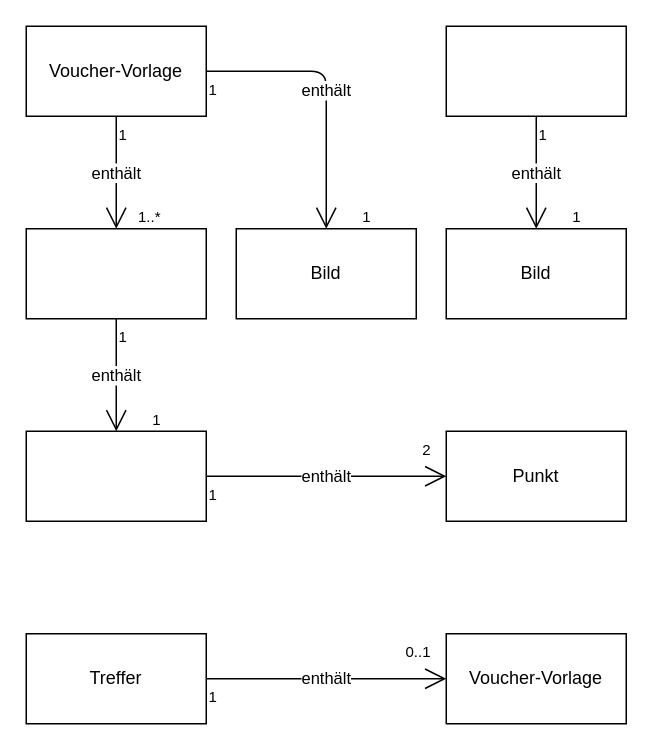
This 653x750 diagram has some shape labels left out. Here are the shapes that lost their labels. From the top down, the centre of each, then its label:
(x=535, y=70): Voucher
(x=115, y=273): Textbereich
(x=115, y=475): Rechteck
